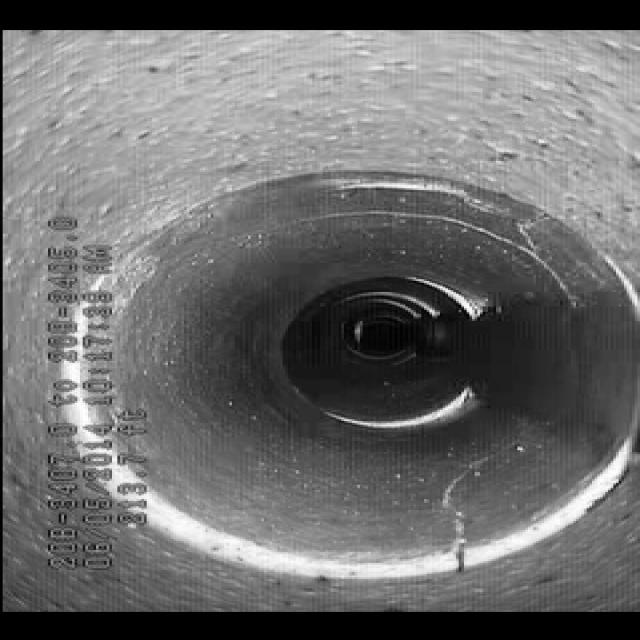Crack: (415, 457, 500, 552)
